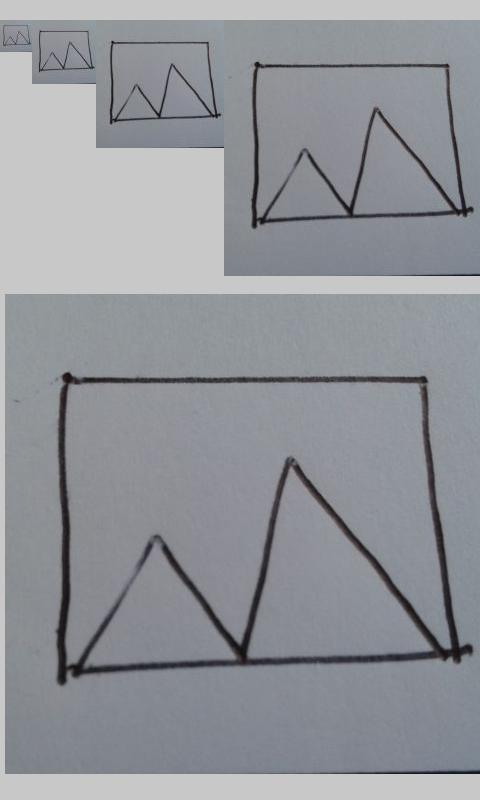image_view: (52, 368, 461, 679), (249, 60, 466, 224), (108, 40, 218, 122), (38, 30, 93, 72), (2, 24, 31, 47)
